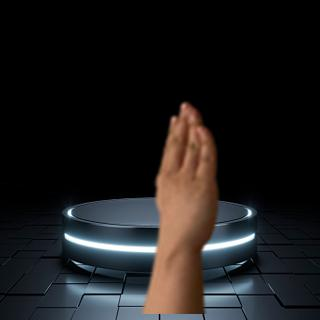RIGHT: (150, 92, 224, 251)
